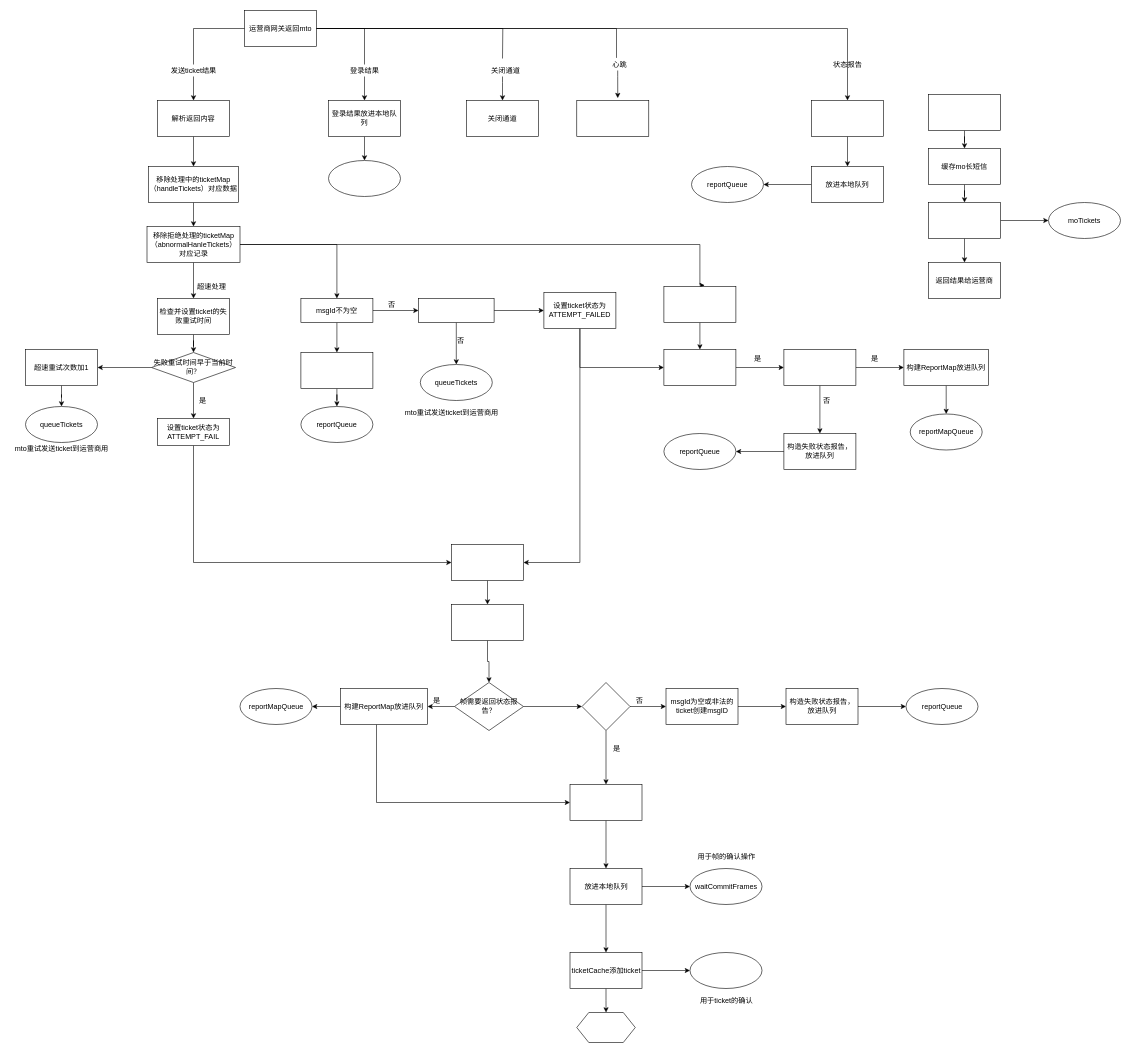
This 1131x1053 diagram has some shape labels left out. The centre of each missing label's shape, as x and y in pixels:
"commitTicket" belongs at point 487,562.
"frameEnvoloperMap移除帧，移除pack" belongs at point 605,802.
"mo短信放到本地队列" belongs at point 964,220.
"originId（重发标识）是否有值" belongs at point 699,367.
"task" belongs at point 364,178.
"ticketCache" belongs at point 725,970.
"从frameWrapper（frameEnvoloperMap）获取帧" belongs at point 487,622.
"从结果中获取状态报告，并设置状态，通道ID" belongs at point 847,118.
"如果返回结果不是success，则构造失败状态报告，放进本地队列" belongs at point 336,370.
"根据类型构造mo普通短信和mo长短信" belongs at point 964,112.
"状态是否成功" belongs at point 819,367.
"结束" belongs at point 605,1027.
"设置ticket状态" belongs at point 699,304.
"达到最大失败重试次数" belongs at point 456,310.
"返回心跳包" belongs at point 612,118.
"返回状态是否成功状态" belongs at point 605,706.
